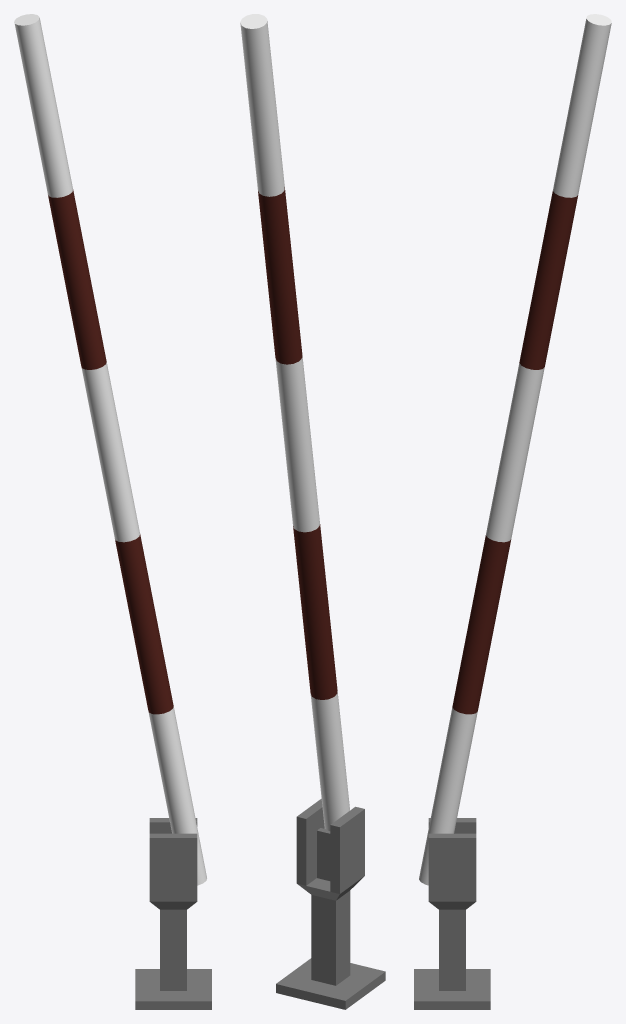
The model's file is SM_gate.fbx.
3 renders of one model, left to right at view 1: azimuth 90°, elevation 25°; view 2: azimuth 150°, elevation 25°; view 3: azimuth 270°, elevation 25°, orthographic. The views are drawn at different scales.
Parts seen in each view (by area): view 1: gate; view 2: gate; view 3: gate.
Part boxes in pixels (<box>): gate: <box>14,14,211,1009</box>; gate: <box>240,14,385,1009</box>; gate: <box>414,14,611,1009</box>.
Bounding box in the file's own units: 20 × 281 × 51.58.
